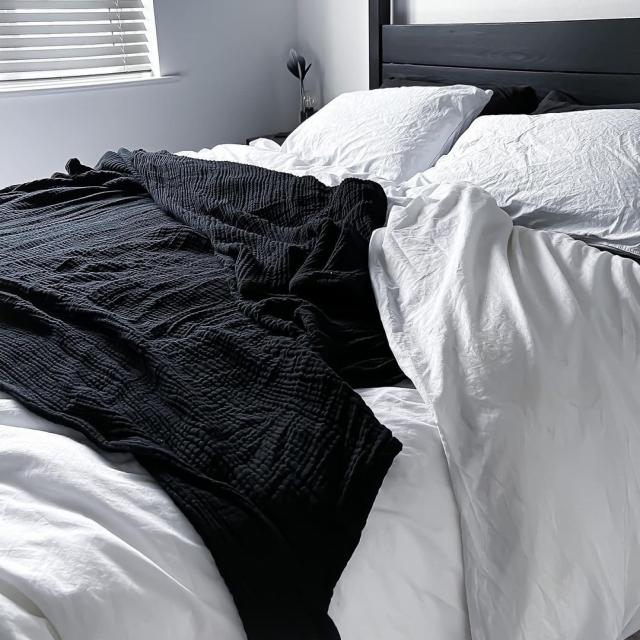bed: (0, 47, 636, 609)
